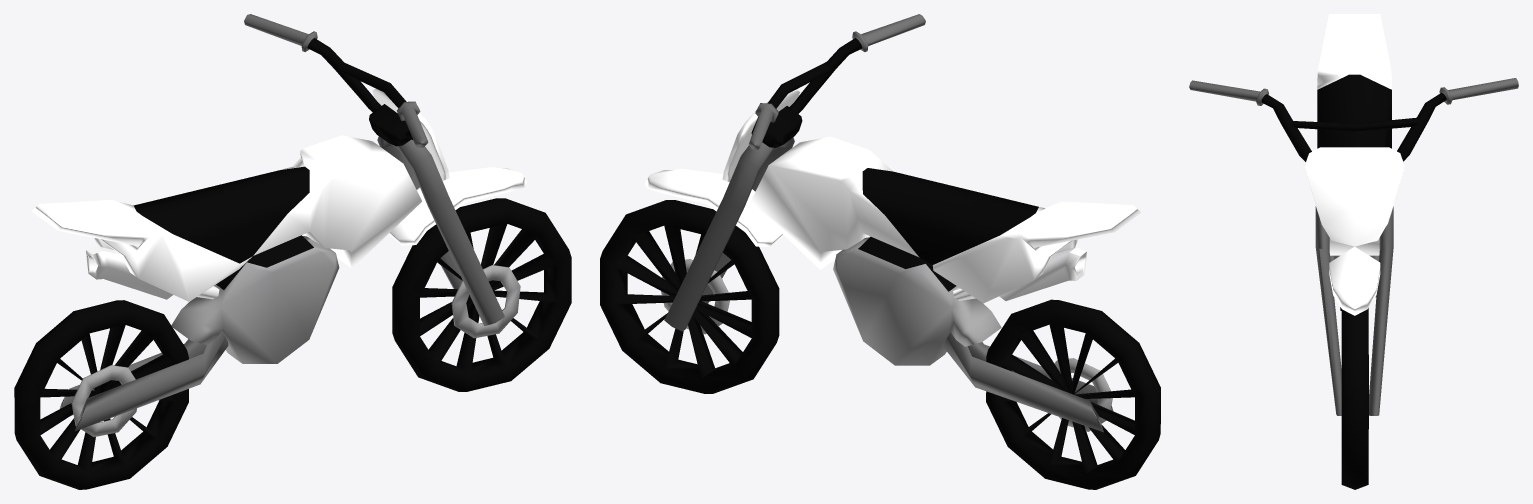
File: DirtBike250ccWhite.glb
3 renders of one model, left to right at view 1: azimuth 30°, elevation 25°; view 2: azimuth 150°, elevation 25°; view 3: azimuth 270°, elevation 25°, orthographic. The views are drawn at different scales.
Visible parts, largest first — view 1: DirtBike250ccWhite; view 2: DirtBike250ccWhite; view 3: DirtBike250ccWhite.
Boxes of the visible parts, <box> form: DirtBike250ccWhite: <box>14,14,571,489</box>; DirtBike250ccWhite: <box>600,14,1160,489</box>; DirtBike250ccWhite: <box>1189,14,1518,489</box>.
Bounding box in the file's own units: 2.46 × 1.49 × 1.33.
Materials: 1 (1 with a texture image).
